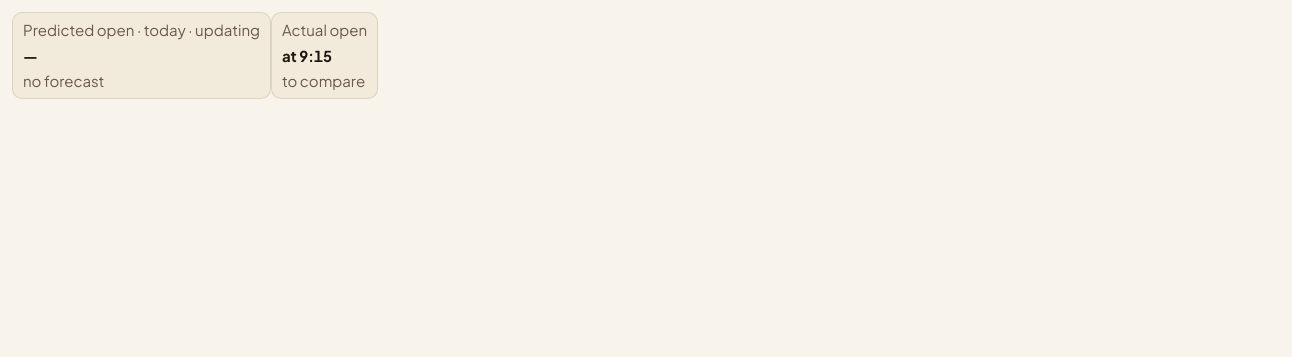
Test: no forecast: it says why instead of showing a number
The width and height of the screenshot is (1292, 357).
Step 1. Click the button with aria-label "Show the opening-price forecast" → (141, 55), box [12,12,271,98]
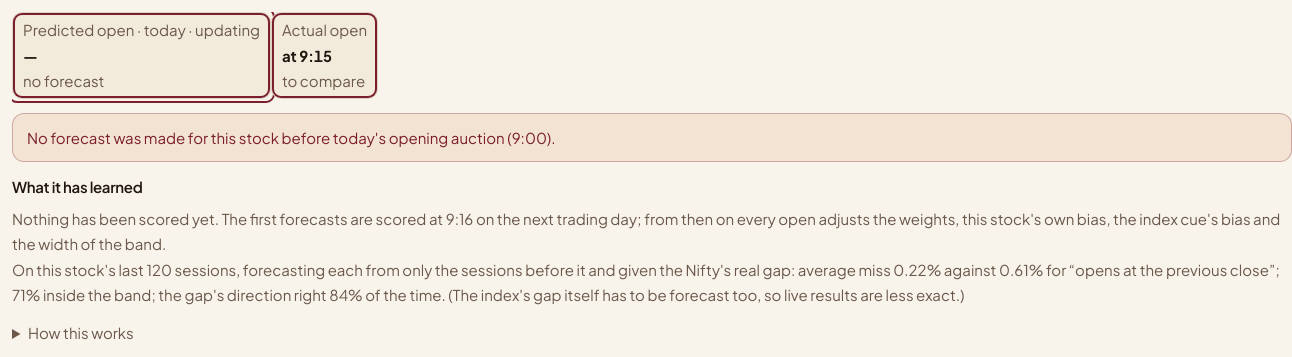
Expected: the text "before today's opening auction" is shown, [27,128,556,146]
